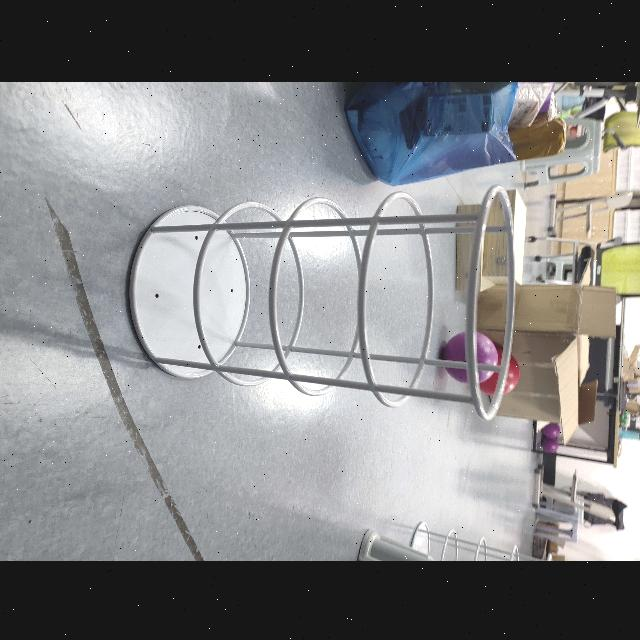S: (119, 180, 518, 422), (444, 331, 501, 382), (540, 432, 562, 450), (542, 420, 560, 436)
